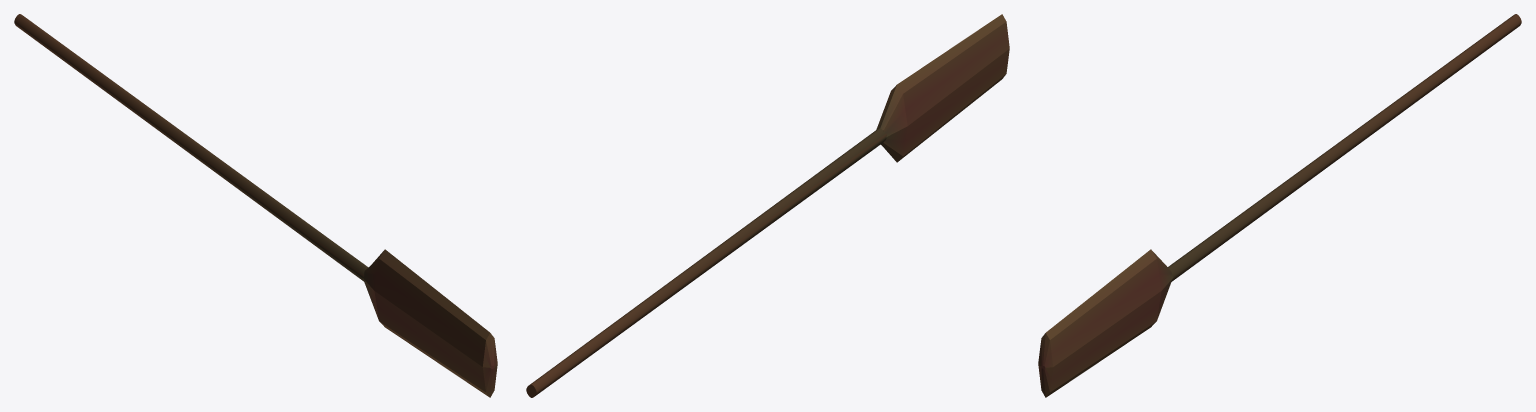
The picture shows the model from 3 angles, left to right: view 1: azimuth 30°, elevation 25°; view 2: azimuth 150°, elevation 25°; view 3: azimuth 330°, elevation 25°; orthographic projection.
Parts seen in each view (by area): view 1: blade_segment, shaft; view 2: blade_segment, shaft; view 3: blade_segment, shaft.
Boxes of the visible parts, bbox=[...] form: blade_segment: bbox=[362, 249, 497, 397]; shaft: bbox=[14, 14, 368, 281]; blade_segment: bbox=[876, 14, 1009, 162]; shaft: bbox=[526, 128, 886, 397]; blade_segment: bbox=[1038, 249, 1173, 397]; shaft: bbox=[1168, 14, 1521, 281].
Size of the model in its own units: 0.0466 by 0.1641 by 1.8.
